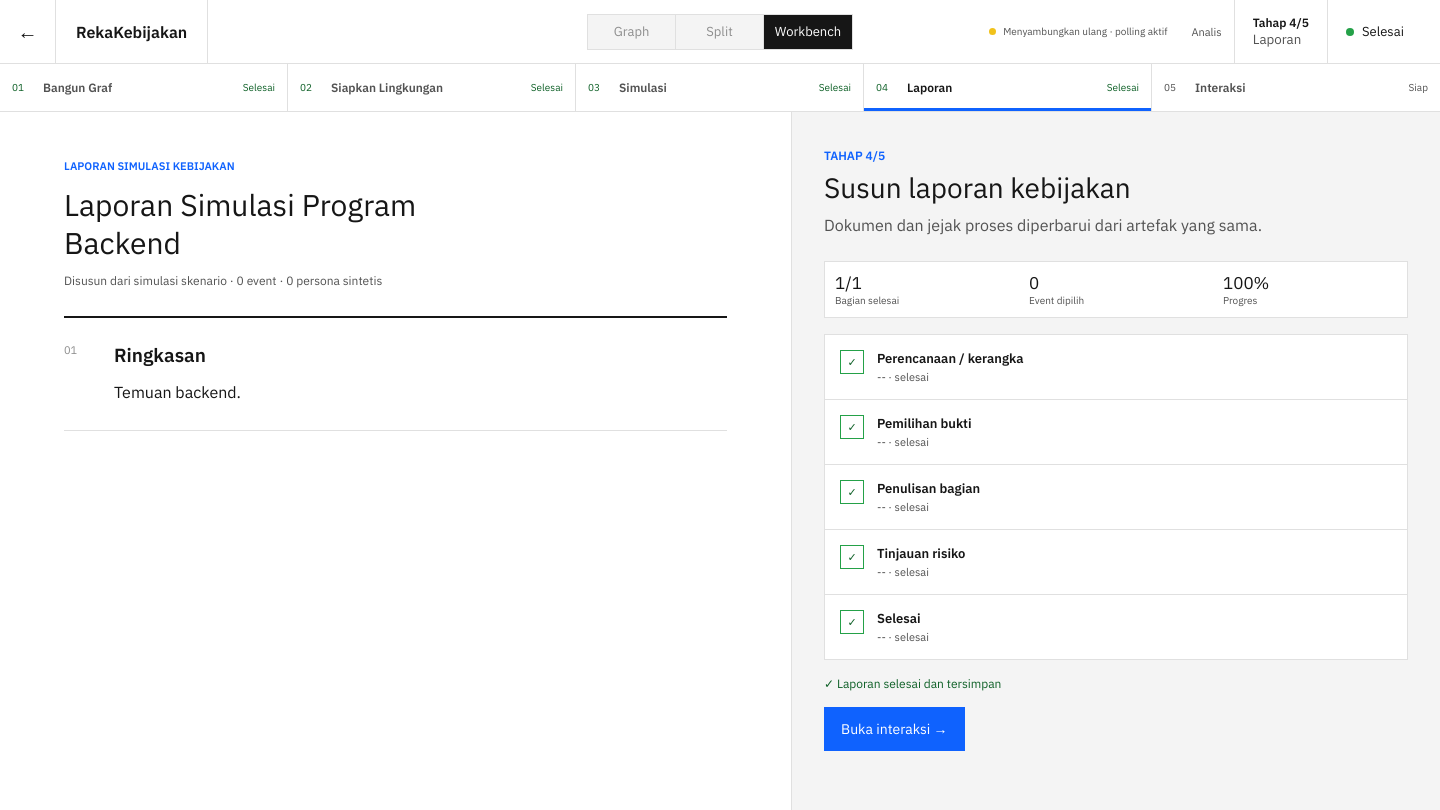
Test: SimulationWorkflowPage live mode › reconciles an unlocked report URL after hydration without losing the early-stage view preference
This screenshot has width=1440, height=810.
Expected: the heading "Susun laporan kebijakan" is shown, [824,169,1131,206]
Expected: the button "Graph" is disabled, [588,14,676,48]
What coordinates should you click on to do the following:
click the button "03 Simulasi Selesai"
I would click on:
 (643, 88)
Its box is [576,64,864,111].
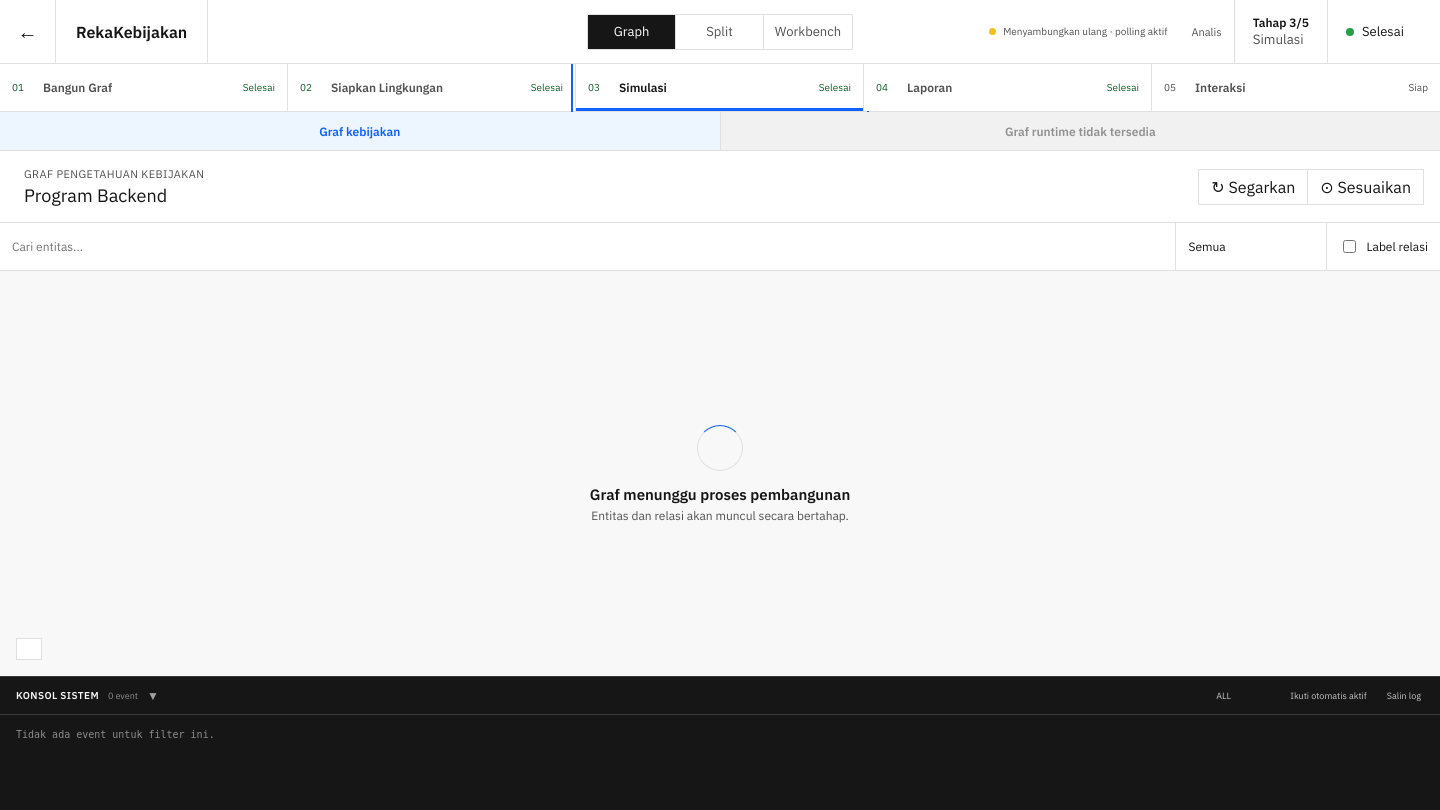
Expected: the button "Graph" is enabled, [588,14,676,48]
